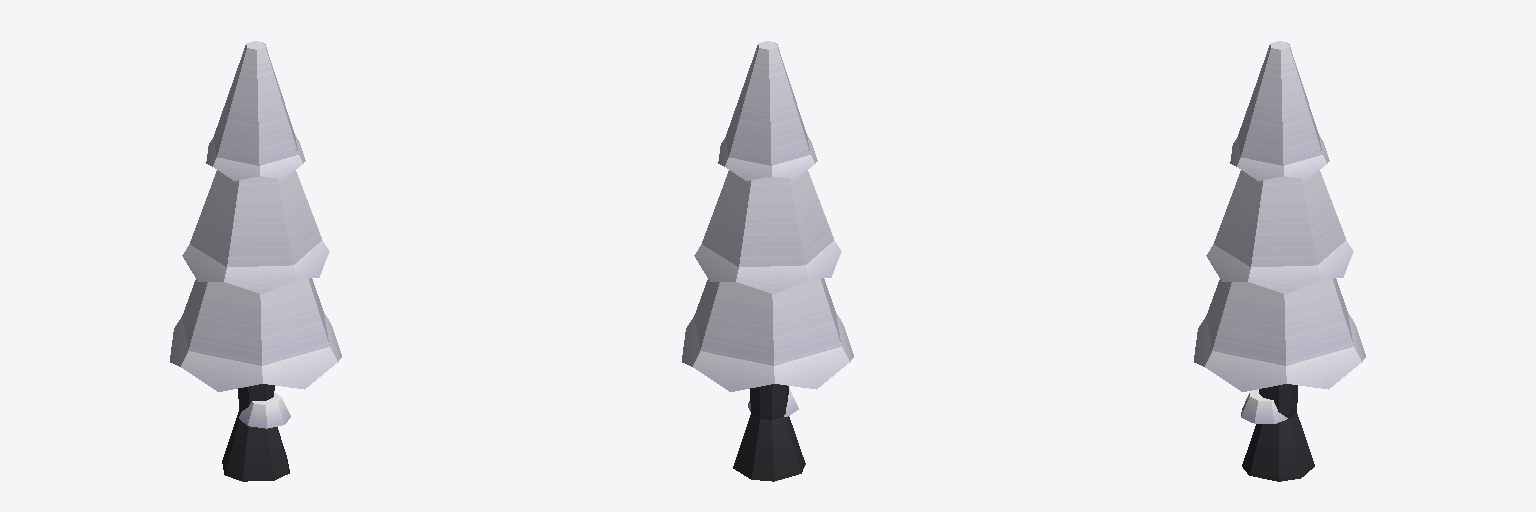
3 views of the same model, side by side, from view 1: azimuth 30°, elevation 25°; view 2: azimuth 150°, elevation 25°; view 3: azimuth 270°, elevation 25° (orthographic).
Parts seen in each view (by area): view 1: tree.058; view 2: tree.058; view 3: tree.058.
Boxes of the visible parts, <box> form: tree.058: <box>170,41,341,481</box>; tree.058: <box>682,41,853,481</box>; tree.058: <box>1194,41,1365,481</box>.
Size of the model in its own units: 1.36 by 3.47 by 1.29.
Materials: 1 (1 with a texture image).